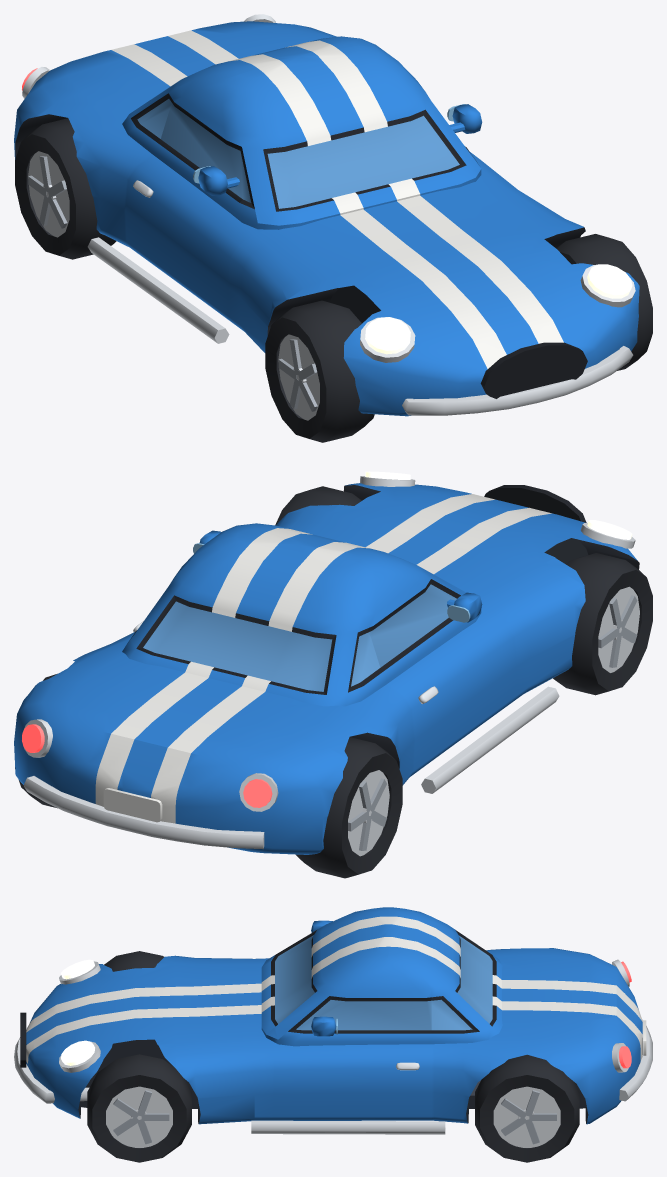
File: carro_antigo_listrado_azul.glb
The picture shows the model from 3 angles, top to bottom: view 1: azimuth 30°, elevation 25°; view 2: azimuth 150°, elevation 25°; view 3: azimuth 270°, elevation 25°; orthographic projection. The views are drawn at different scales.
Parts seen in each view (by area): view 1: carro_antigo_listrado_azul, porta_dianteira_esq, roda_dianteira_esq, roda_traseira_esq, roda_dianteira_dir; view 2: carro_antigo_listrado_azul, porta_dianteira_esq, roda_dianteira_esq, roda_traseira_esq, roda_dianteira_dir; view 3: carro_antigo_listrado_azul, porta_dianteira_dir, roda_dianteira_dir, roda_traseira_dir, roda_dianteira_esq.
Boxes of the visible parts, box(x1,y1,x2,y2) form: carro_antigo_listrado_azul: box(14, 14, 639, 416); porta_dianteira_esq: box(125, 100, 265, 316); roda_dianteira_esq: box(265, 300, 374, 442); roda_traseira_esq: box(15, 118, 116, 259); roda_dianteira_dir: box(556, 234, 652, 370); carro_antigo_listrado_azul: box(14, 471, 639, 854); porta_dianteira_esq: box(368, 579, 517, 770); roda_dianteira_esq: box(553, 553, 652, 695); roda_traseira_esq: box(295, 737, 402, 878); roda_dianteira_dir: box(275, 486, 361, 525); carro_antigo_listrado_azul: box(14, 907, 652, 1134); porta_dianteira_dir: box(273, 996, 431, 1116); roda_dianteira_dir: box(87, 1054, 191, 1162); roda_traseira_dir: box(475, 1054, 579, 1162); roda_dianteira_esq: box(104, 951, 163, 971).
Bounding box in the file's own units: 2.09 × 1.3 × 4.29.
4 materials, 1 textured.
